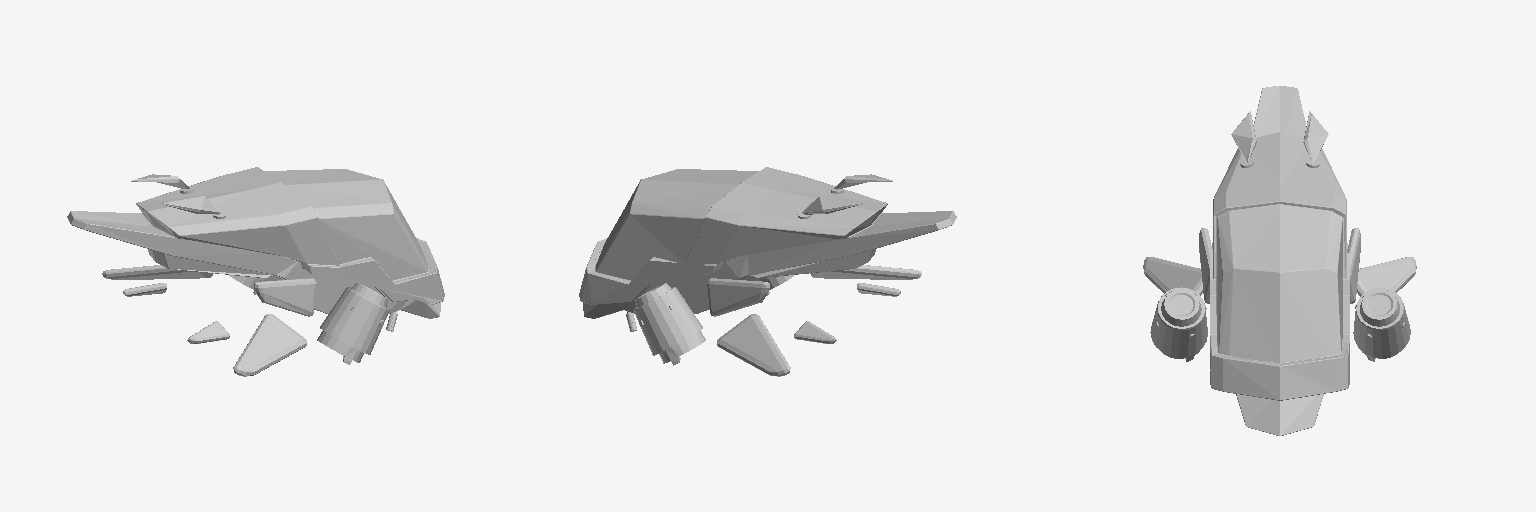
The model's file is enemy-ship.obj.
3 renders of one model, left to right at view 1: azimuth 30°, elevation 25°; view 2: azimuth 150°, elevation 25°; view 3: azimuth 270°, elevation 25°, orthographic.
Parts seen in each view (by area): view 1: pCylinder13; view 2: pCylinder13; view 3: pCylinder13.
Part boxes in pixels (bbox=[...]): pCylinder13: bbox=[67, 167, 444, 376]; pCylinder13: bbox=[579, 167, 956, 376]; pCylinder13: bbox=[1143, 86, 1416, 435].
Bounding box in the file's own units: 0.2317 × 0.109 × 0.1482.